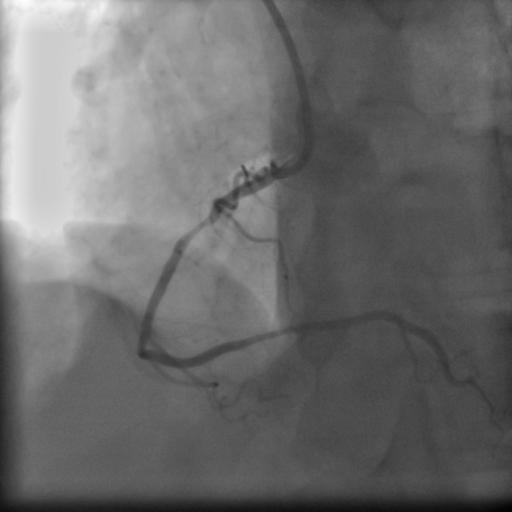Stenosis: (184, 213, 221, 233)
